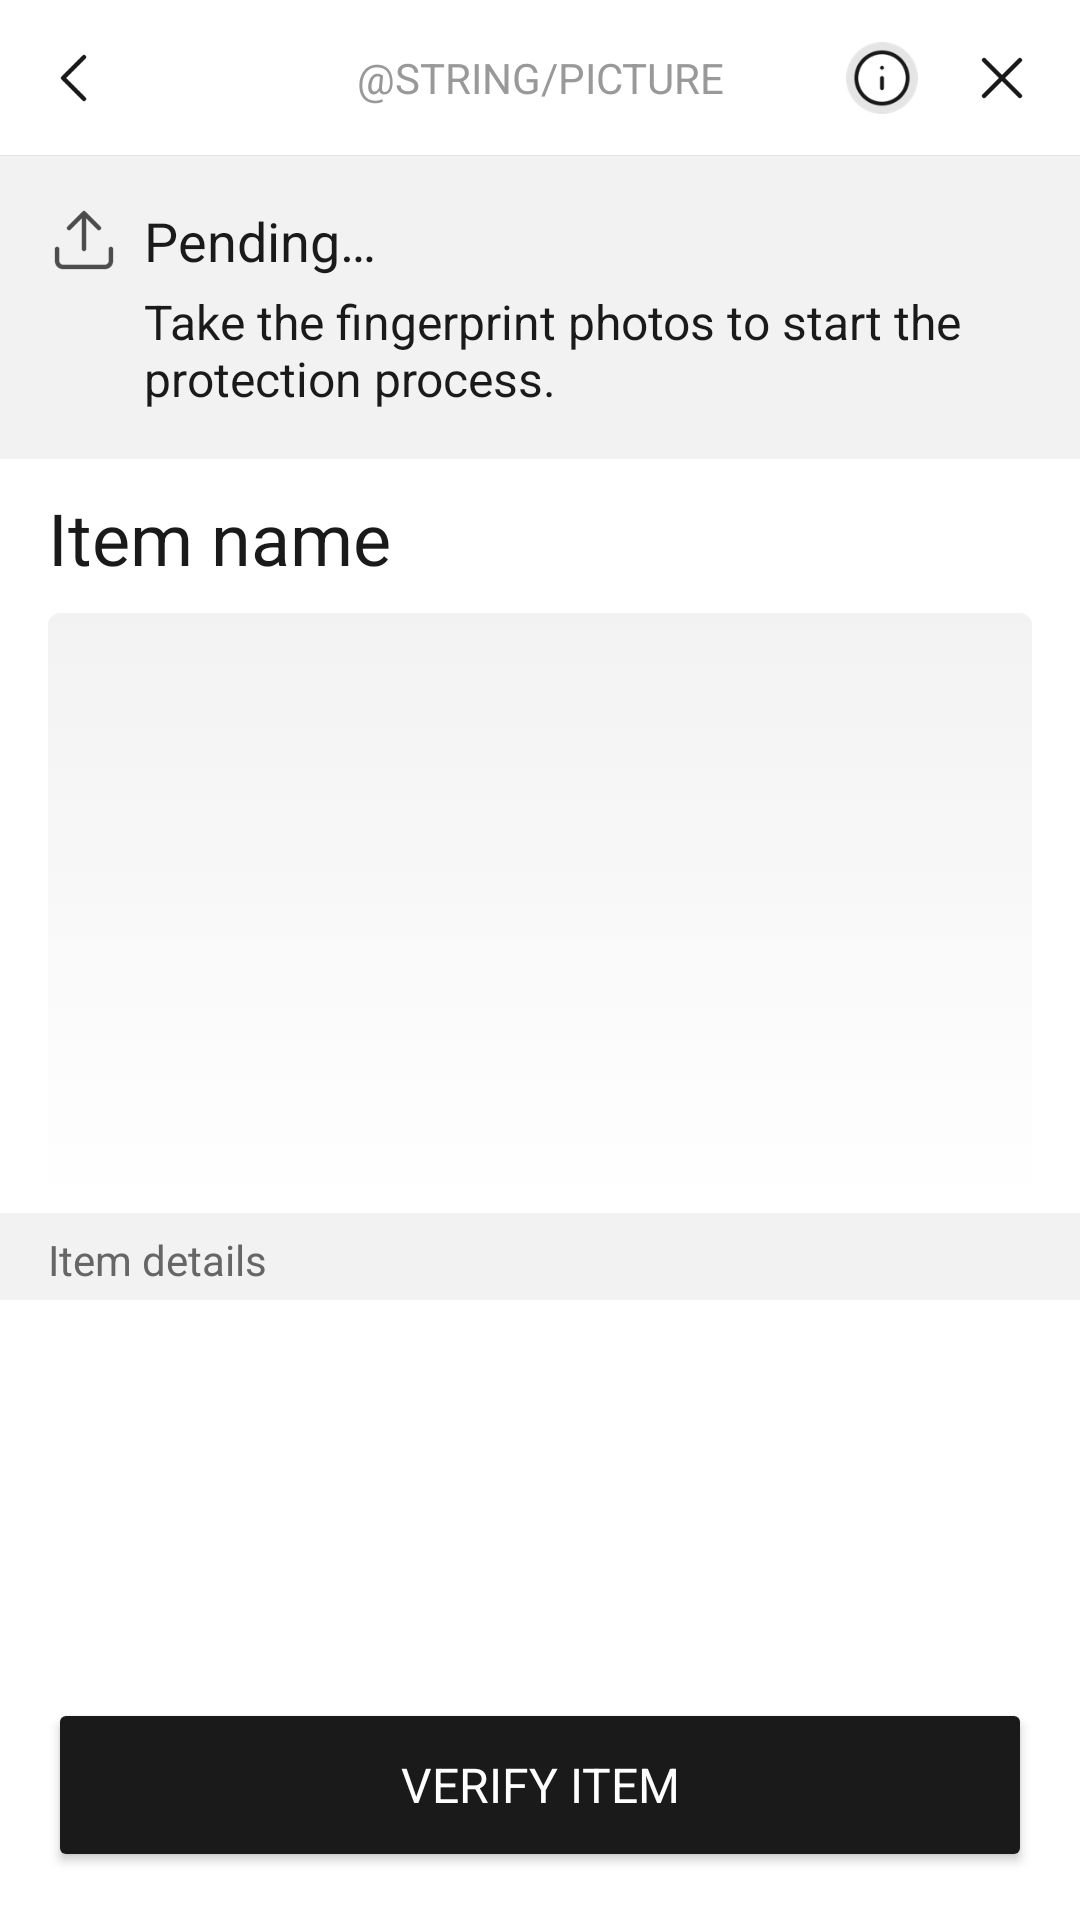

Where to tap for icons on this 1080px x 1920px app screen, as (x=x, y=y):
back: (x=73, y=78)
close: (x=1002, y=78)
info: (x=882, y=78)
upload: (x=84, y=240)
